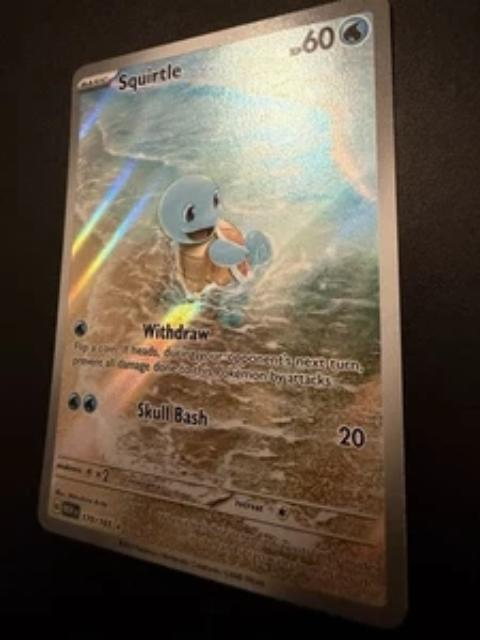Card: (30, 0, 414, 635)
Name: (113, 57, 186, 98)
